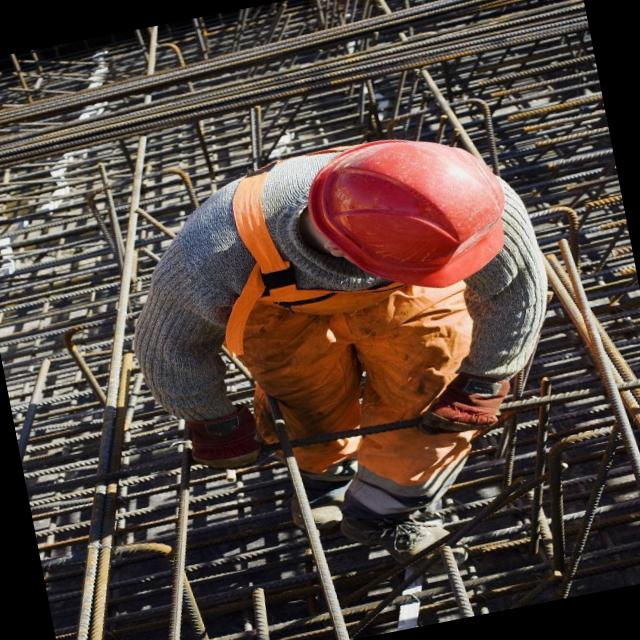helmet: (289, 121, 525, 318)
